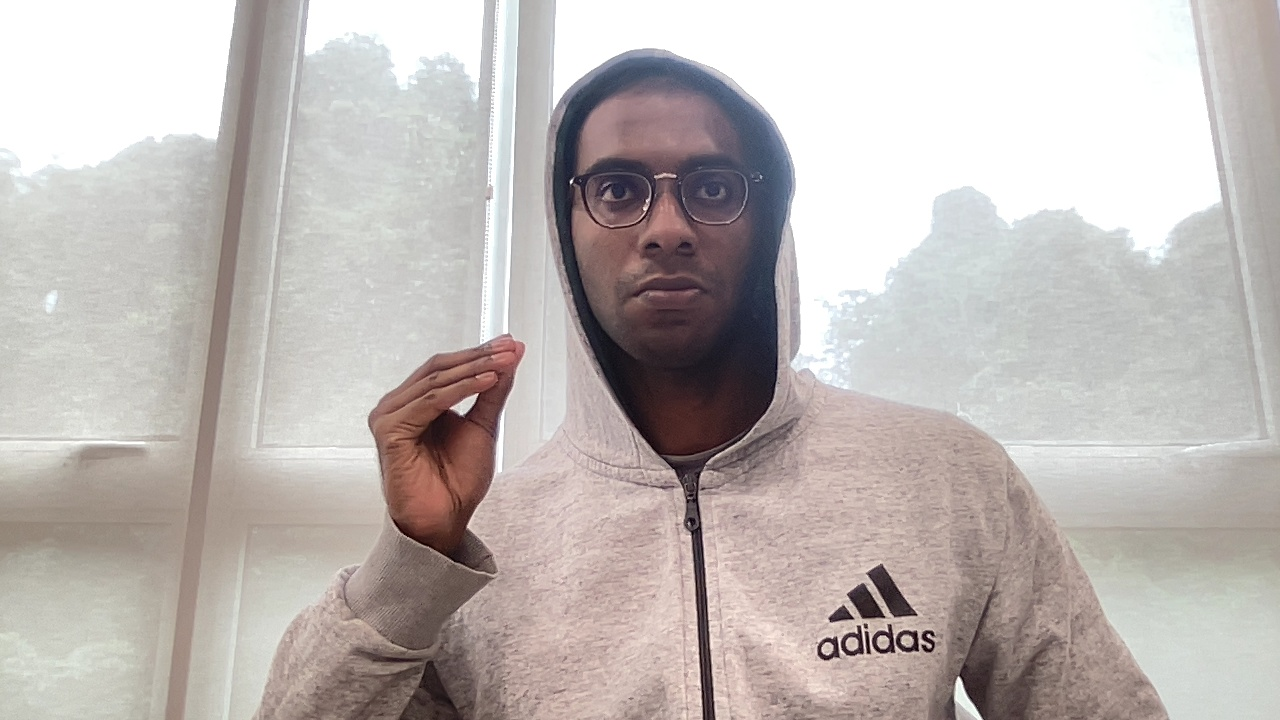eat: (362, 331, 535, 528)
